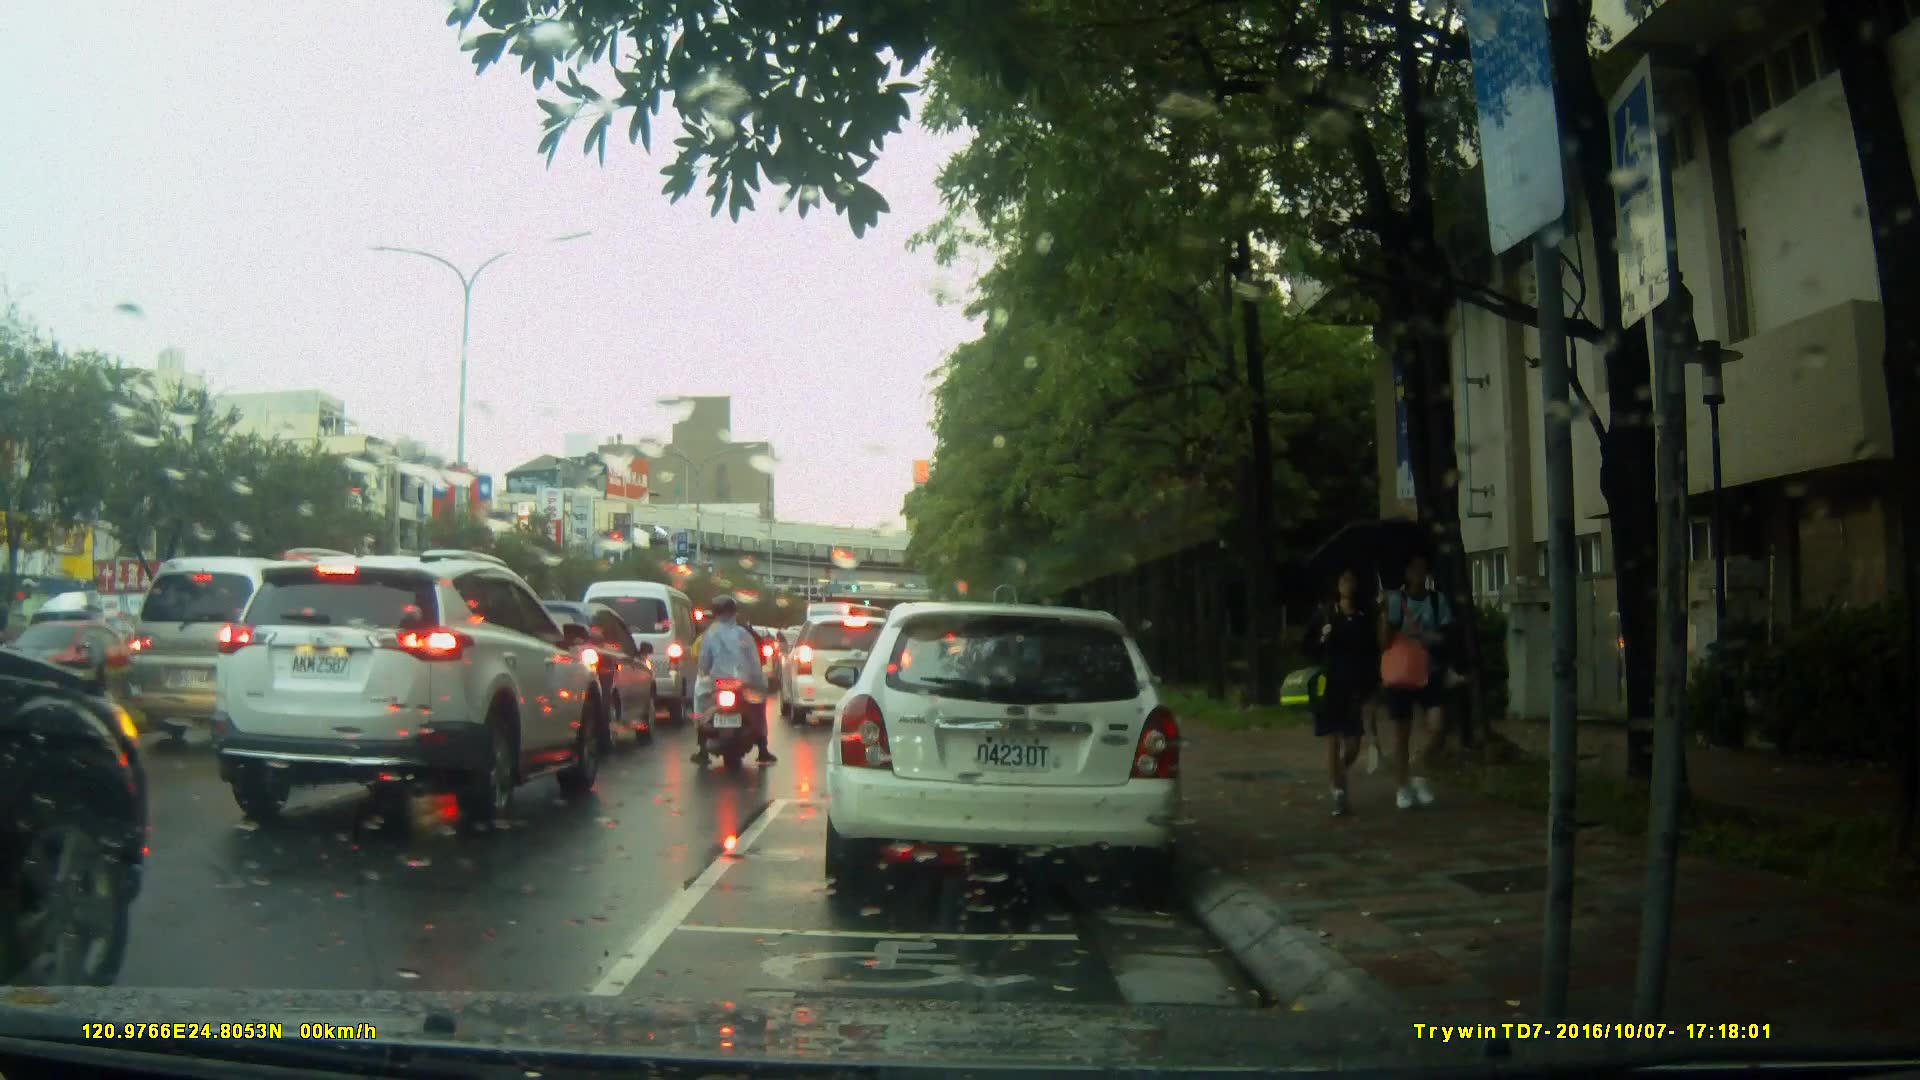pedestrian: (1372, 545, 1477, 818), (1294, 554, 1373, 827)
rider: (688, 596, 774, 778)
vehicle: (815, 593, 1204, 909), (213, 550, 608, 825), (127, 553, 329, 732), (459, 598, 661, 756), (570, 580, 711, 728), (782, 613, 921, 727), (1, 618, 138, 709), (655, 609, 760, 703)
